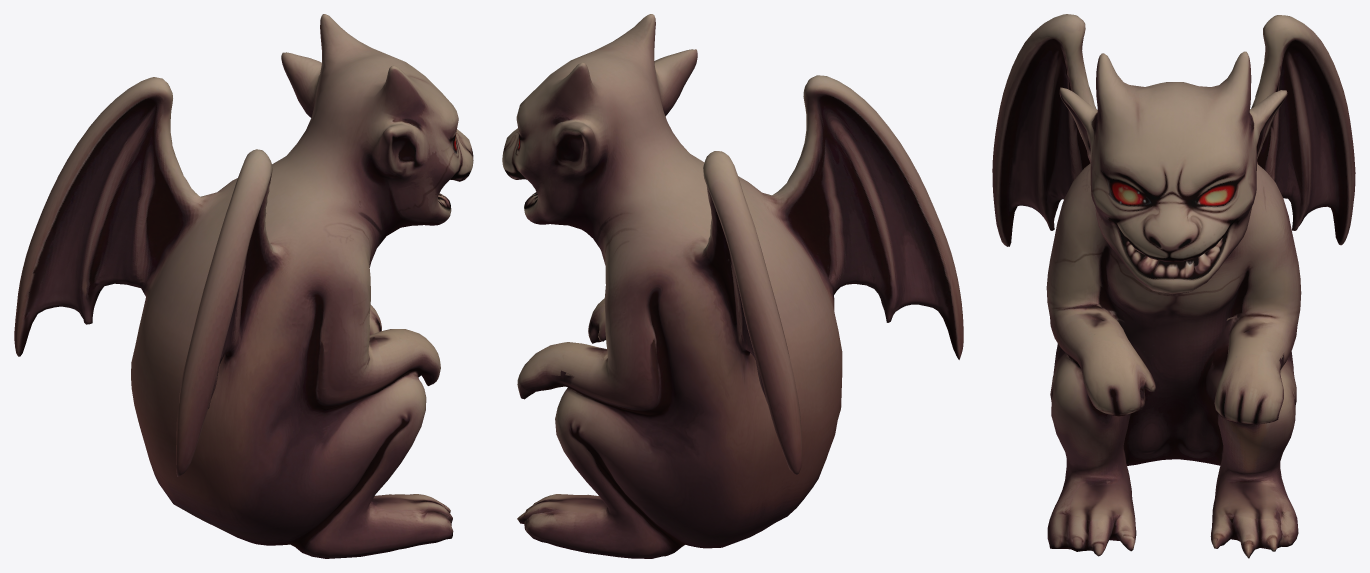
File: gargola.fbx
3 renders of one model, left to right at view 1: azimuth 30°, elevation 25°; view 2: azimuth 150°, elevation 25°; view 3: azimuth 270°, elevation 25°, orthographic. The views are drawn at different scales.
Visible parts, largest first — view 1: tripo_node_c497e762; view 2: tripo_node_c497e762; view 3: tripo_node_c497e762.
Part boxes in pixels (bbox=[...]): tripo_node_c497e762: bbox=[14, 14, 473, 558]; tripo_node_c497e762: bbox=[502, 14, 963, 558]; tripo_node_c497e762: bbox=[992, 14, 1355, 558].
Size of the model in its own units: 82.84 by 67.71 by 100.
1 material, 1 textured.
